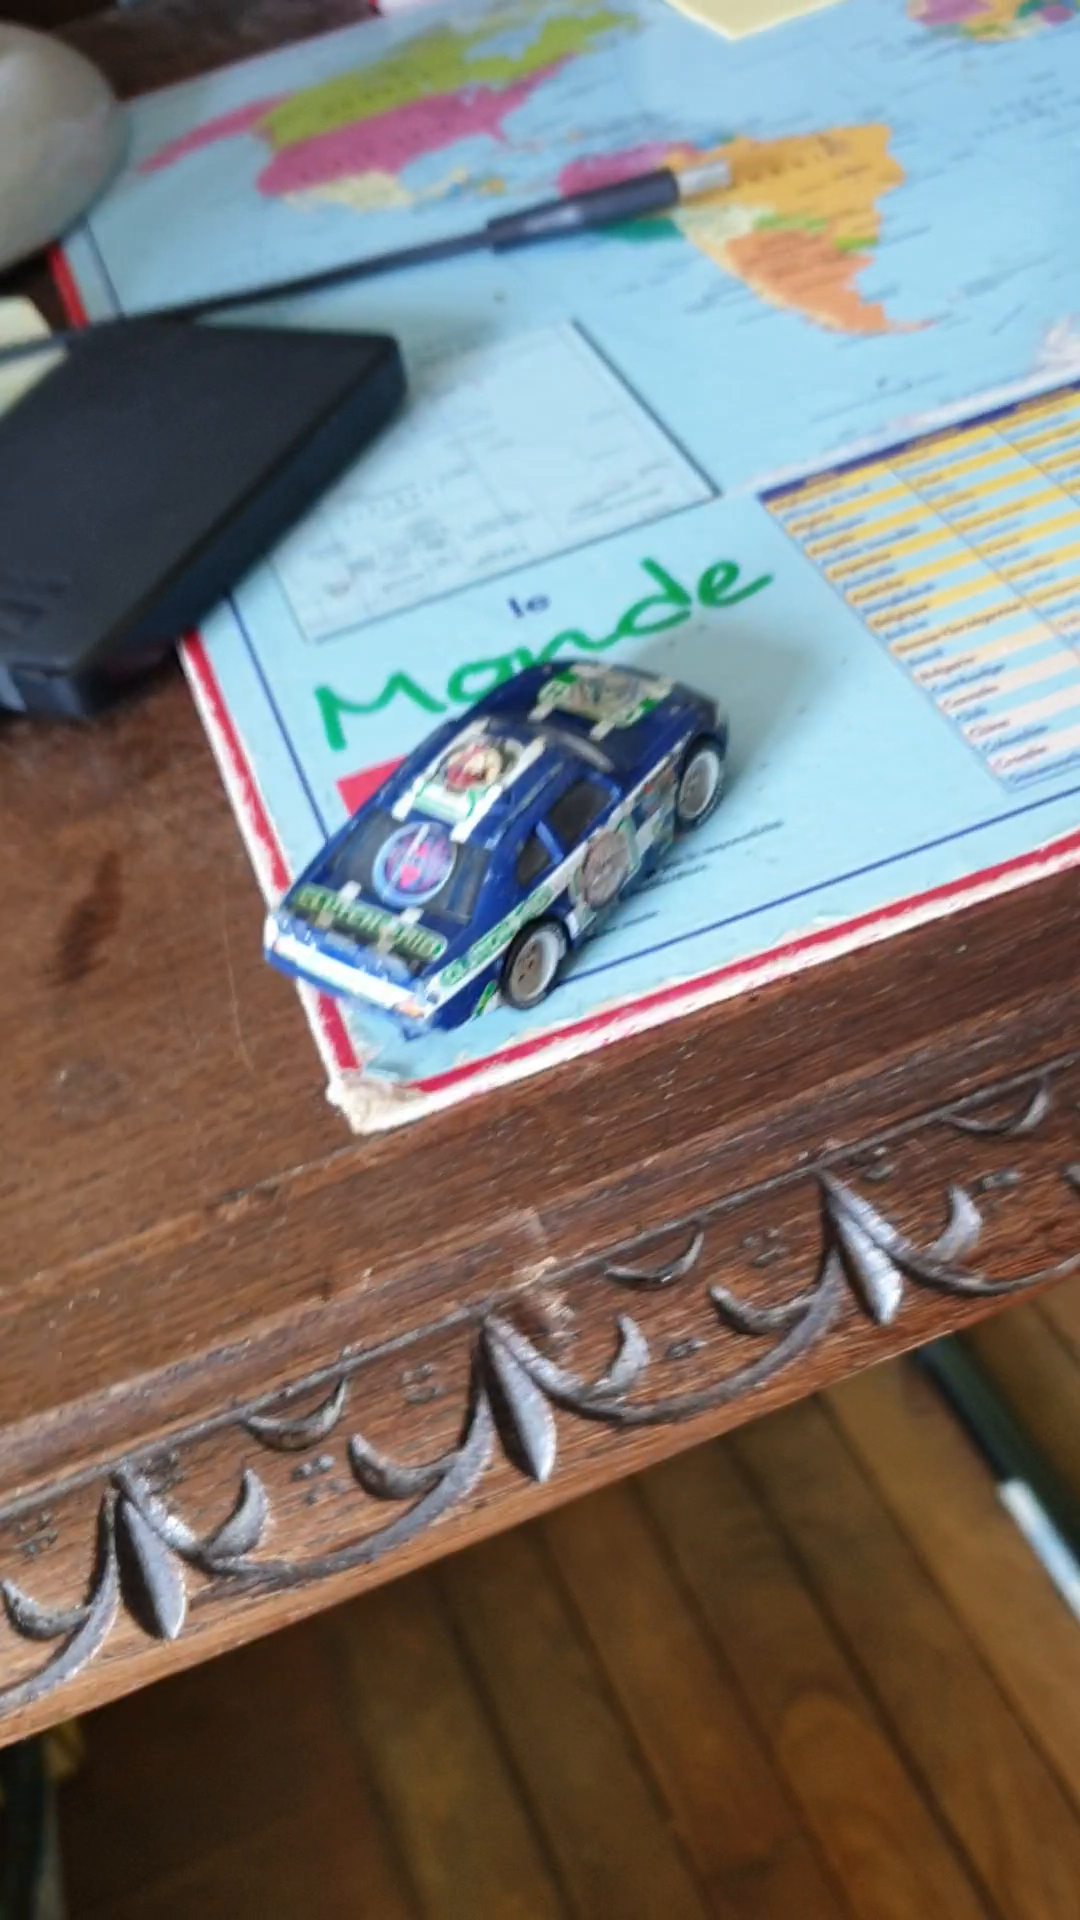cars: (258, 658, 727, 1035)
